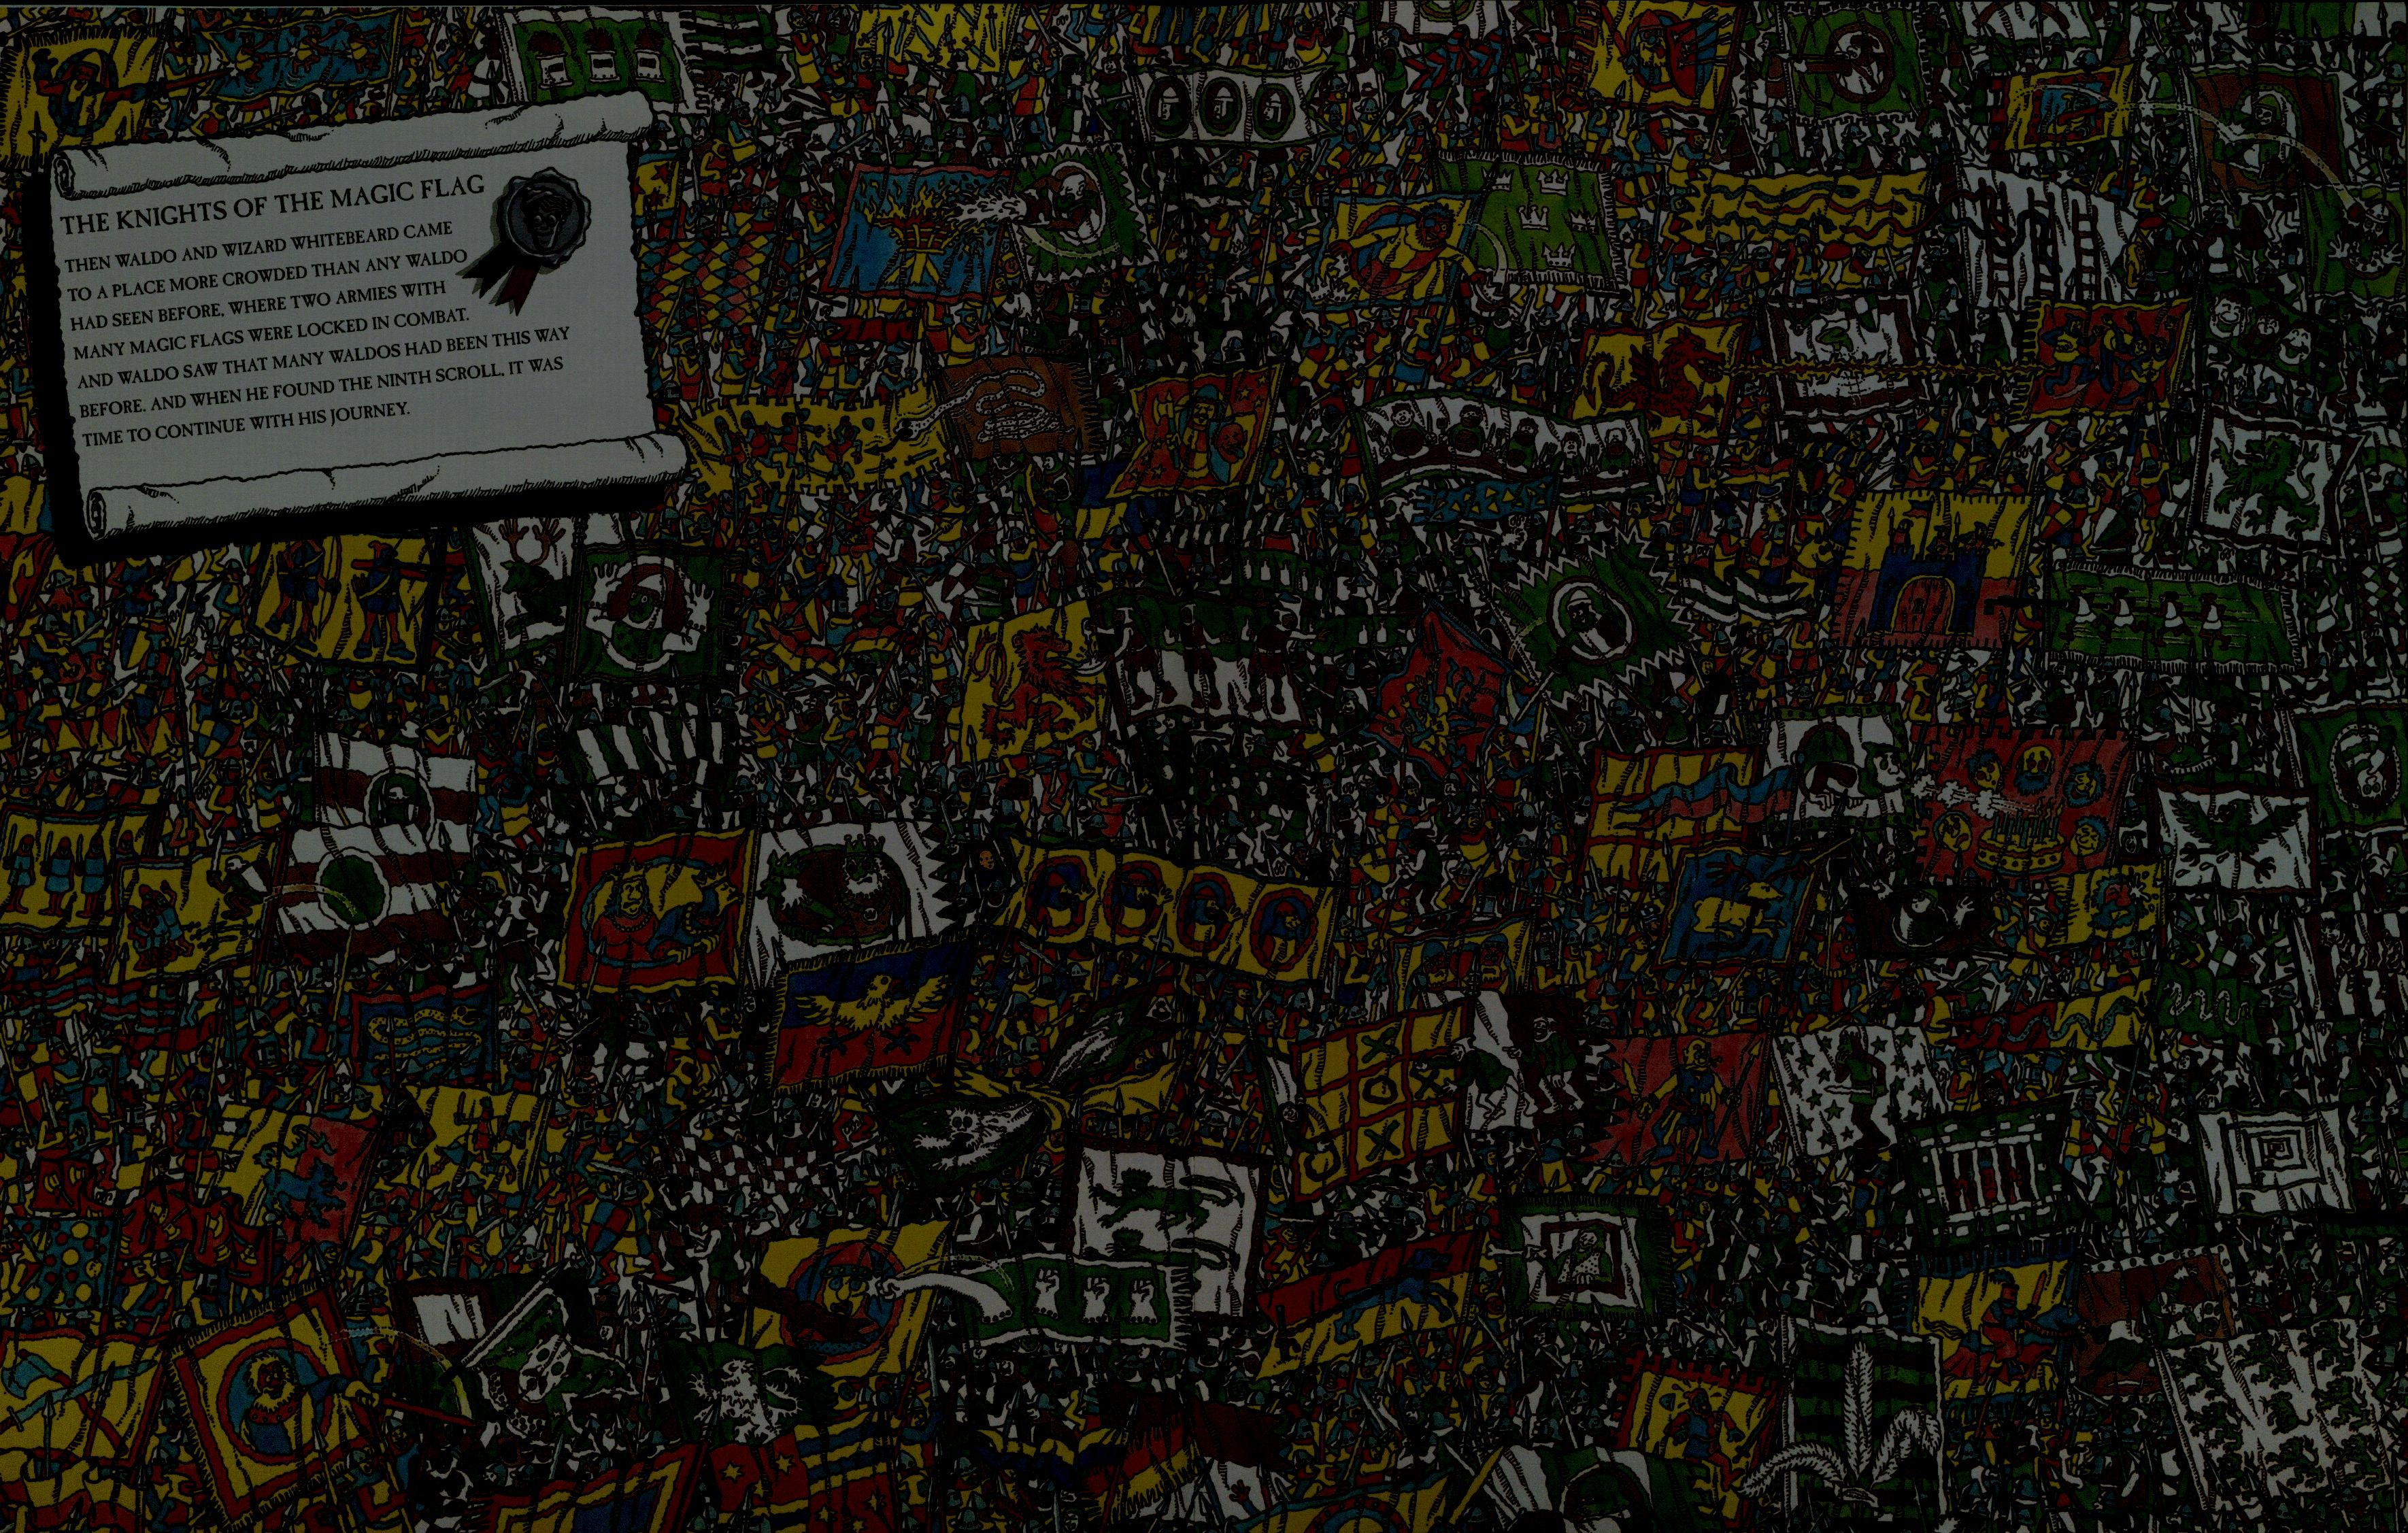waldos: (570, 1037, 602, 1103)
